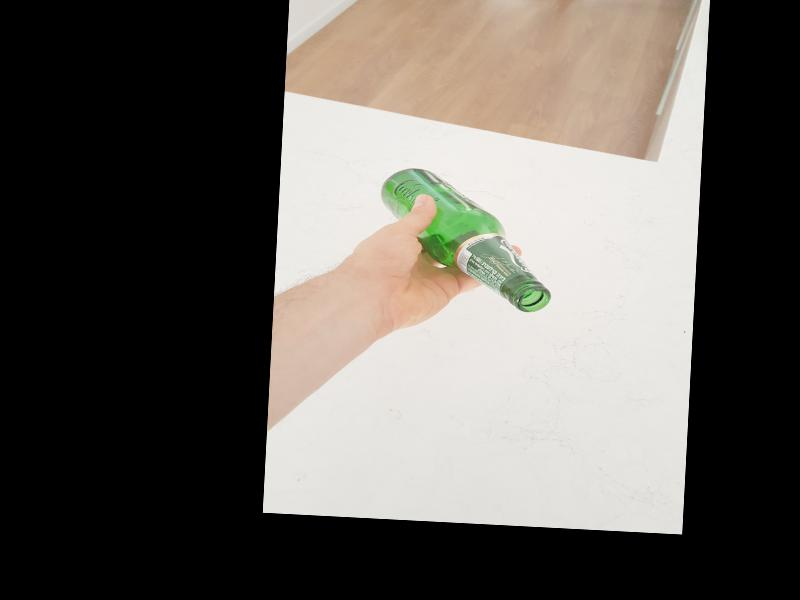Beer: (376, 167, 558, 315)
